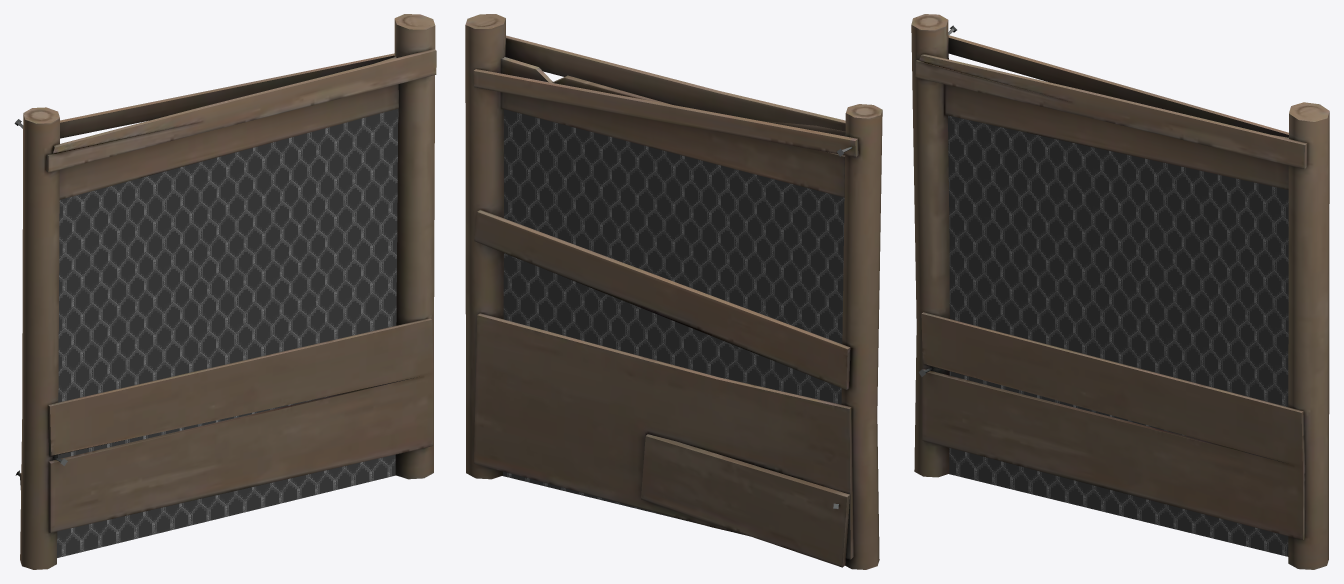
3 views of the same model, side by side, from view 1: azimuth 30°, elevation 25°; view 2: azimuth 150°, elevation 25°; view 3: azimuth 330°, elevation 25° (orthographic).
Visible parts, largest first — view 1: body0_model0_lod0_mesh1, body0_model0_lod0_mesh0; view 2: body0_model0_lod0_mesh1, body0_model0_lod0_mesh0; view 3: body0_model0_lod0_mesh1, body0_model0_lod0_mesh0.
Part boxes in pixels (x1,y1,x2,y2): body0_model0_lod0_mesh1: [14, 14, 436, 569]; body0_model0_lod0_mesh0: [57, 109, 398, 557]; body0_model0_lod0_mesh1: [465, 14, 882, 569]; body0_model0_lod0_mesh0: [503, 109, 844, 536]; body0_model0_lod0_mesh1: [911, 14, 1329, 569]; body0_model0_lod0_mesh0: [948, 115, 1288, 556].
Bounding box in the file's own units: 128 × 135 × 22.95.
Materials: 2 (2 with a texture image).
